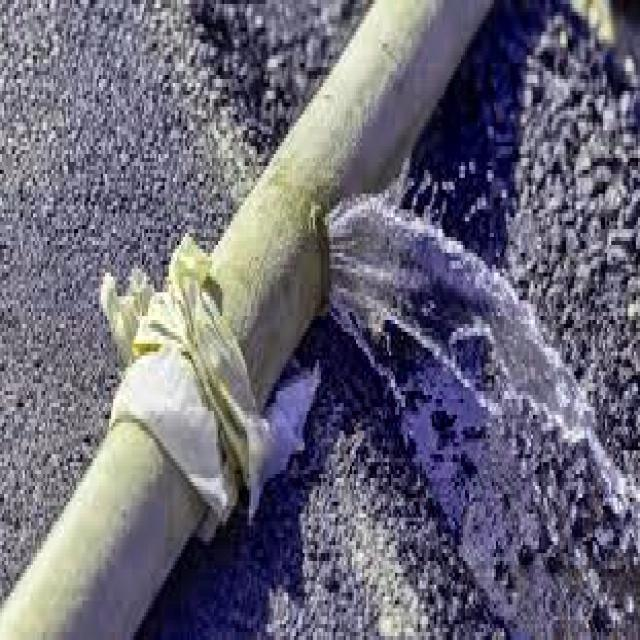corrosion: (241, 143, 452, 388)
